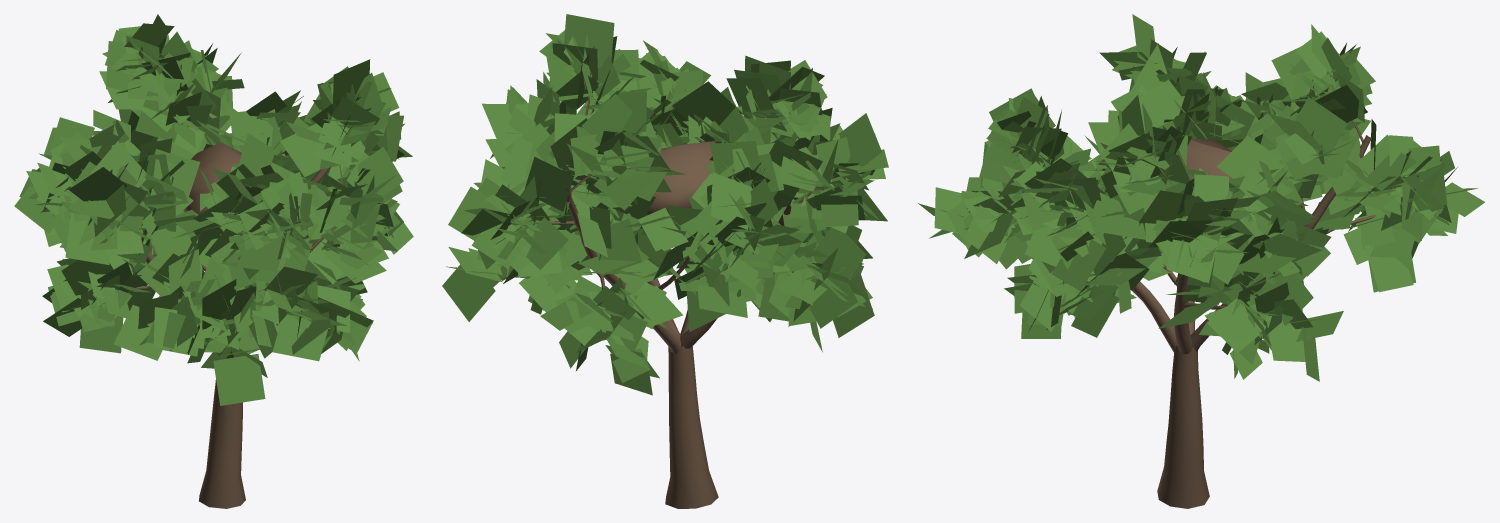
Rendered from foliage-broadleaf.glb.
The picture shows the model from 3 angles, left to right: view 1: azimuth 30°, elevation 25°; view 2: azimuth 150°, elevation 25°; view 3: azimuth 270°, elevation 25°; orthographic projection. The views are drawn at different scales.
Visible parts, largest first — view 1: leaves, bark; view 2: leaves, bark; view 3: leaves, bark.
Part boxes in pixels (x1=…): leaves: x1=14, y1=14, x2=413, y2=405; bark: x1=136, y1=142, x2=335, y2=508; leaves: x1=442, y1=14, x2=888, y2=395; bark: x1=549, y1=97, x2=837, y2=508; leaves: x1=918, y1=14, x2=1484, y2=381; bark: x1=1111, y1=120, x2=1375, y2=508.
Bounding box in the file's own units: 8.99 × 10.43 × 11.56.
